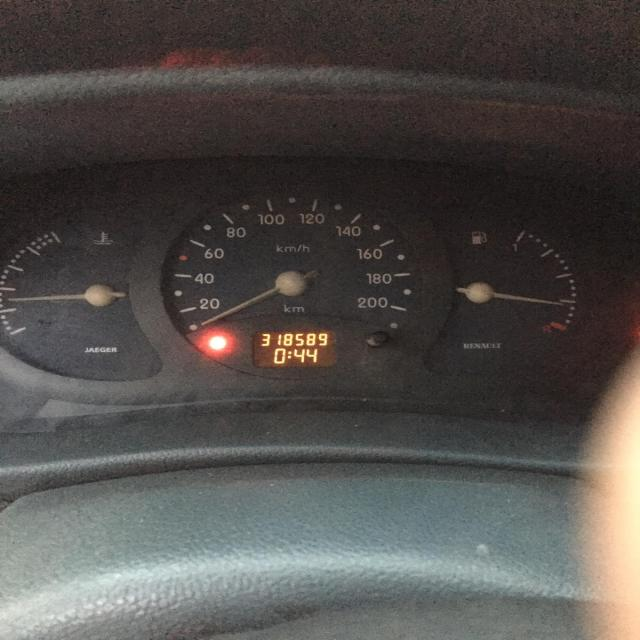odometer: (249, 328, 341, 370)
